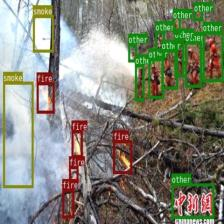fire: (113, 140, 132, 173), (36, 82, 54, 113), (62, 188, 74, 218), (71, 130, 82, 157), (69, 166, 78, 181)
smoke: (3, 82, 33, 188), (32, 15, 54, 52)
